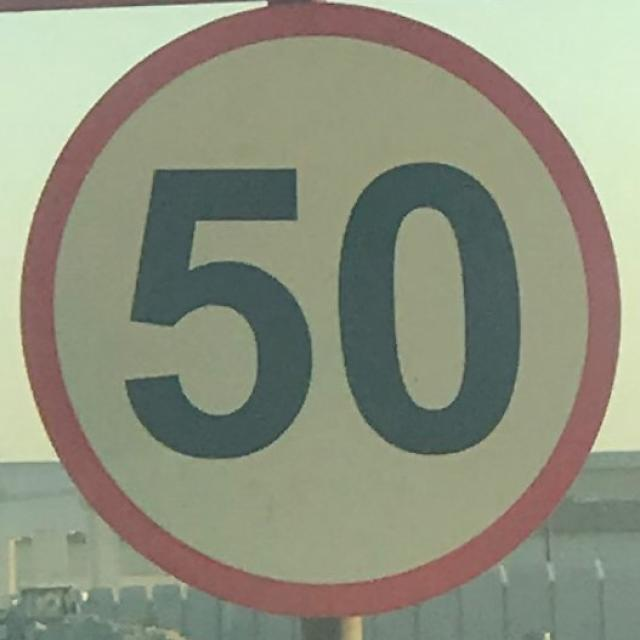Limite-50: (17, 1, 623, 621)
